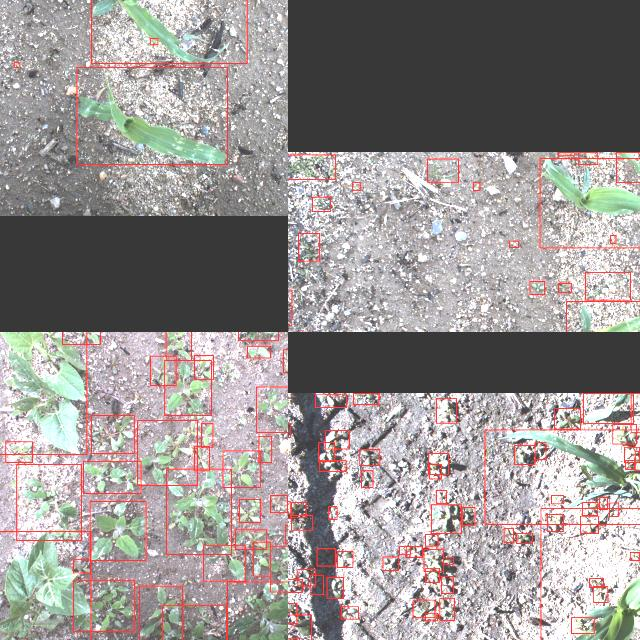crop: (76, 66, 228, 164), (484, 428, 640, 523), (540, 507, 640, 640), (0, 332, 87, 453), (91, 0, 247, 63), (540, 157, 640, 247), (90, 500, 146, 560), (566, 301, 640, 332), (583, 392, 633, 422), (615, 151, 640, 181), (631, 392, 640, 431)
weed: (0, 531, 90, 640), (166, 468, 232, 554), (17, 464, 82, 540), (137, 420, 197, 484), (227, 582, 288, 640), (74, 579, 134, 631), (164, 360, 212, 414), (139, 585, 182, 640), (162, 605, 226, 640), (83, 461, 141, 494), (92, 415, 134, 453), (203, 546, 245, 580), (222, 449, 260, 486), (257, 386, 288, 431), (586, 271, 630, 299), (288, 153, 335, 178), (269, 546, 288, 592), (431, 503, 461, 532), (150, 355, 176, 385), (428, 157, 458, 180), (166, 332, 191, 359), (298, 232, 320, 260), (236, 529, 266, 549), (288, 614, 311, 640), (253, 542, 270, 576), (5, 441, 32, 461), (239, 498, 261, 522), (554, 408, 580, 428), (436, 398, 456, 422), (424, 548, 444, 572), (613, 423, 637, 443), (194, 355, 213, 379), (325, 429, 349, 448), (428, 452, 448, 473), (62, 332, 100, 343), (515, 444, 535, 464), (326, 576, 344, 598), (413, 599, 435, 617), (194, 446, 210, 470), (315, 394, 347, 406), (258, 436, 272, 462), (572, 617, 594, 633), (270, 494, 288, 512), (317, 548, 335, 566), (298, 568, 316, 586), (580, 515, 598, 533), (319, 441, 335, 461), (360, 449, 380, 465), (292, 514, 312, 530), (201, 422, 213, 448), (440, 598, 454, 620), (546, 514, 564, 530), (238, 332, 278, 339), (310, 574, 324, 594), (319, 460, 346, 470), (248, 345, 270, 357), (354, 392, 378, 403), (337, 551, 353, 567), (624, 446, 640, 462), (312, 196, 330, 210), (578, 152, 598, 164), (594, 586, 608, 602), (462, 506, 474, 524), (441, 576, 454, 592), (361, 469, 373, 486), (530, 280, 544, 294), (292, 502, 306, 516), (384, 556, 398, 570), (425, 568, 439, 582), (74, 560, 90, 572), (342, 606, 358, 618), (534, 442, 546, 458), (582, 502, 598, 514), (288, 578, 302, 591), (288, 603, 297, 623), (429, 464, 441, 478), (406, 546, 422, 556), (516, 533, 532, 543), (426, 533, 438, 545), (558, 282, 572, 292), (504, 528, 514, 542), (609, 502, 619, 516), (436, 490, 446, 502), (283, 348, 288, 371), (590, 578, 604, 586), (550, 495, 564, 503), (329, 506, 337, 518), (425, 612, 437, 620), (600, 497, 608, 509), (635, 450, 640, 469), (630, 552, 640, 560), (400, 545, 410, 553), (626, 459, 634, 468), (352, 182, 360, 190), (558, 151, 574, 155), (509, 240, 518, 247), (443, 557, 453, 563), (474, 182, 481, 190), (150, 38, 158, 44), (610, 235, 616, 243), (288, 500, 290, 517), (14, 62, 18, 66)
